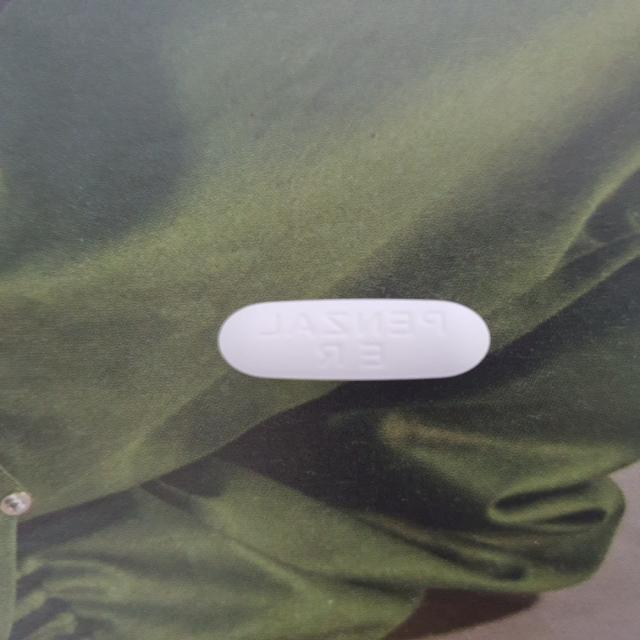pill: (207, 280, 503, 408)
